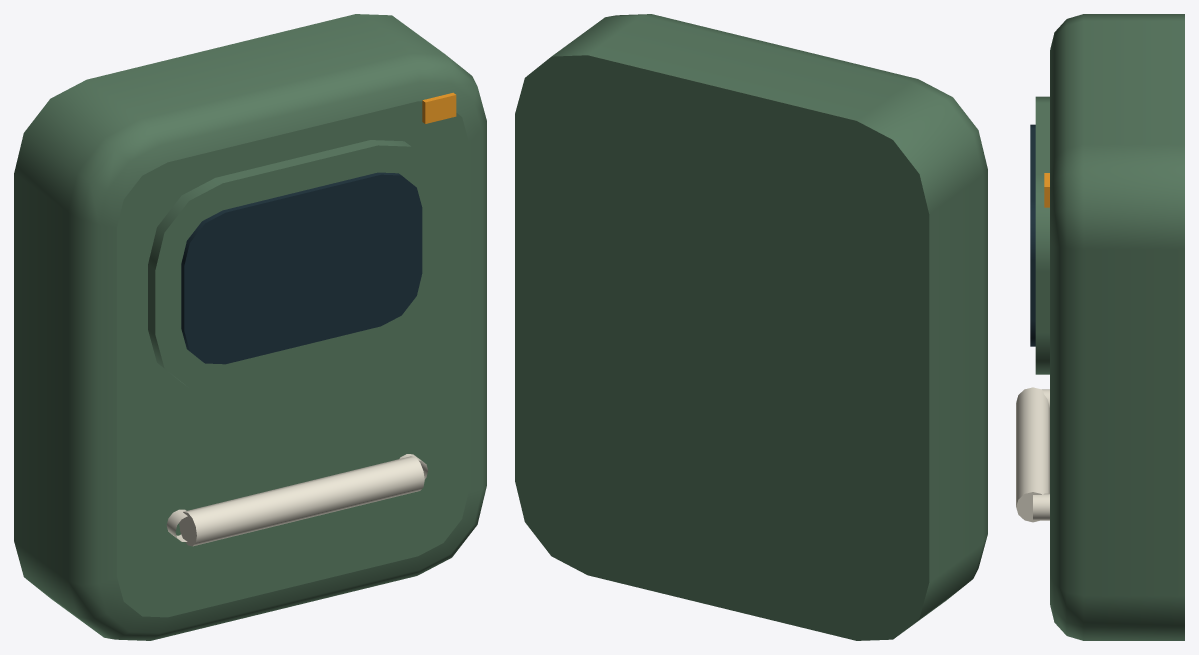
3 renders of one model, left to right at view 1: azimuth 30°, elevation 25°; view 2: azimuth 150°, elevation 25°; view 3: azimuth 270°, elevation 25°, orthographic. The views are drawn at different scales.
Visible parts, largest first — view 1: t10_o2; view 2: t10_o2; view 3: t10_o2.
Boxes of the visible parts, <box> form: t10_o2: <box>14,14,486,640</box>; t10_o2: <box>515,14,987,640</box>; t10_o2: <box>1016,14,1184,640</box>.
Bounding box in the file's own units: 0.8 × 0.96 × 0.3.
